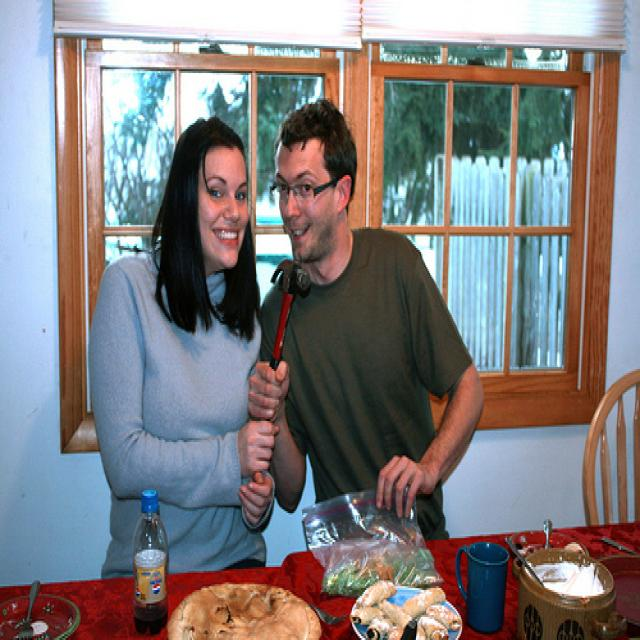hammer: (235, 242, 322, 410)
